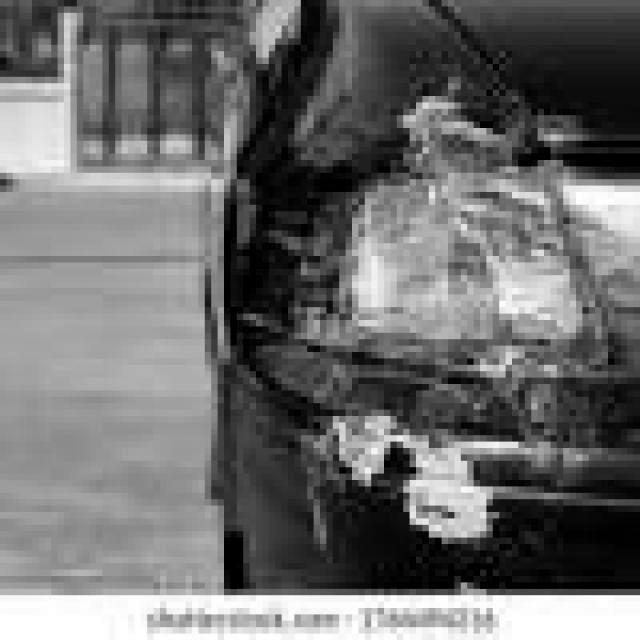Headlight-damage: (231, 83, 634, 467)
front-bumper-dent: (193, 352, 634, 589)
